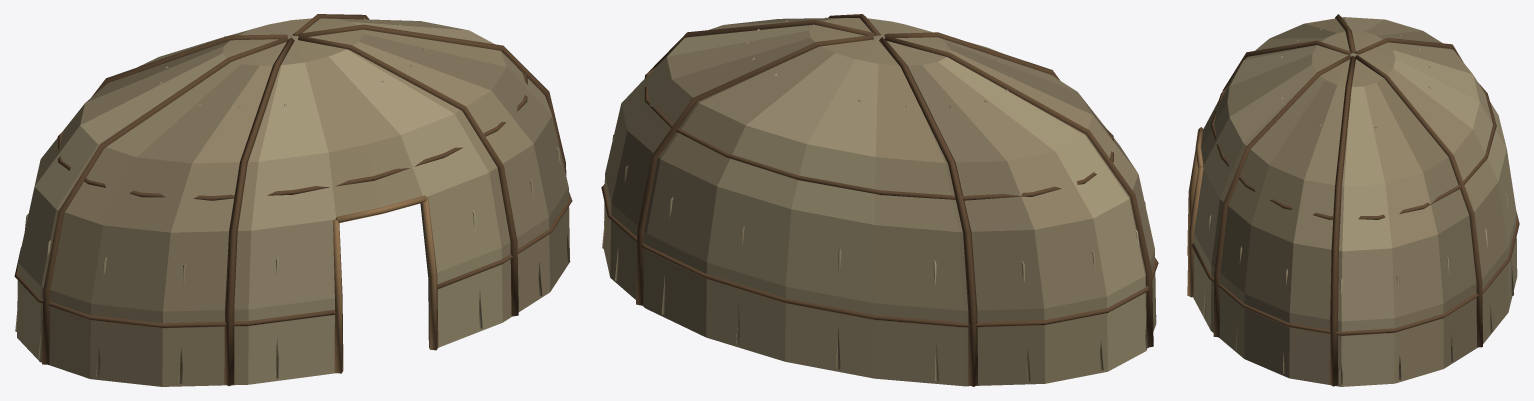
The model's file is oval_thatch_longhouse_lod1.glb.
3 views of the same model, side by side, from view 1: azimuth 30°, elevation 25°; view 2: azimuth 150°, elevation 25°; view 3: azimuth 270°, elevation 25° (orthographic). The views are drawn at different scales.
Parts seen in each view (by area): view 1: oval_thatch_longhouse_lod1; view 2: oval_thatch_longhouse_lod1; view 3: oval_thatch_longhouse_lod1.
Boxes of the visible parts, bbox=[...] form: oval_thatch_longhouse_lod1: bbox=[14, 14, 572, 386]; oval_thatch_longhouse_lod1: bbox=[601, 14, 1158, 386]; oval_thatch_longhouse_lod1: bbox=[1187, 14, 1519, 386].
Size of the model in its own units: 6.75 by 3.17 by 4.27.
